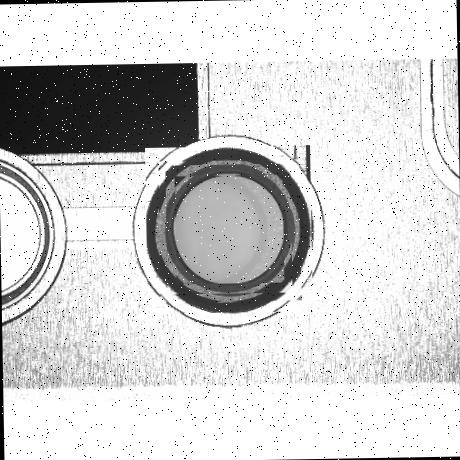Hole: (145, 144, 313, 314)
Hole2: (158, 159, 302, 303)
Hole3: (164, 163, 294, 295)
Hole4: (174, 174, 284, 284)
